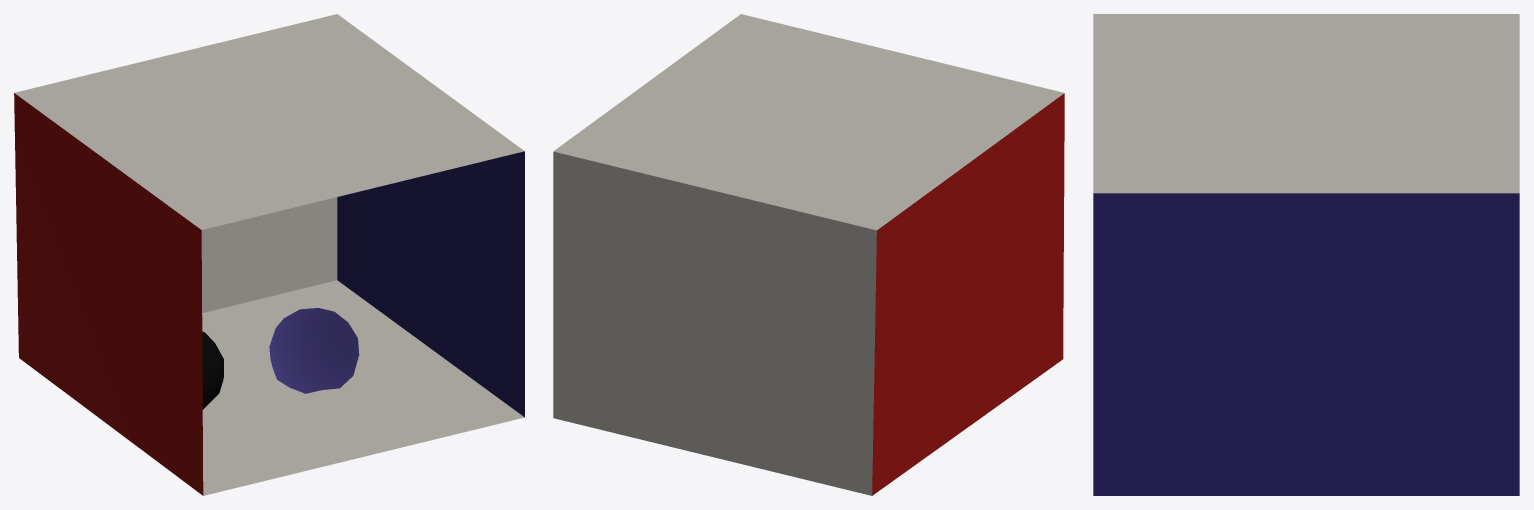
Rendered from CornellBox-Sphere-1298.obj.
3 views of the same model, side by side, from view 1: azimuth 30°, elevation 25°; view 2: azimuth 150°, elevation 25°; view 3: azimuth 270°, elevation 25° (orthographic). The views are drawn at different scales.
Visible parts, largest first — view 1: ceiling, leftWall, floor, rightWall, backWall, leftSphere, rightSphere; view 2: backWall, ceiling, leftWall; view 3: rightWall, ceiling.
Part boxes in pixels (x1,y1,x2,y2): ceiling: [14, 14, 524, 229]; leftWall: [14, 93, 203, 495]; floor: [202, 280, 524, 495]; rightWall: [337, 151, 524, 417]; backWall: [201, 197, 337, 312]; leftSphere: [269, 308, 359, 393]; rightSphere: [202, 331, 223, 409]; backWall: [553, 151, 876, 495]; ceiling: [553, 14, 1064, 230]; leftWall: [872, 93, 1064, 495]; rightWall: [1093, 193, 1519, 495]; ceiling: [1093, 14, 1519, 193].
Size of the model in its own units: 2.02 by 1.59 by 2.03.
